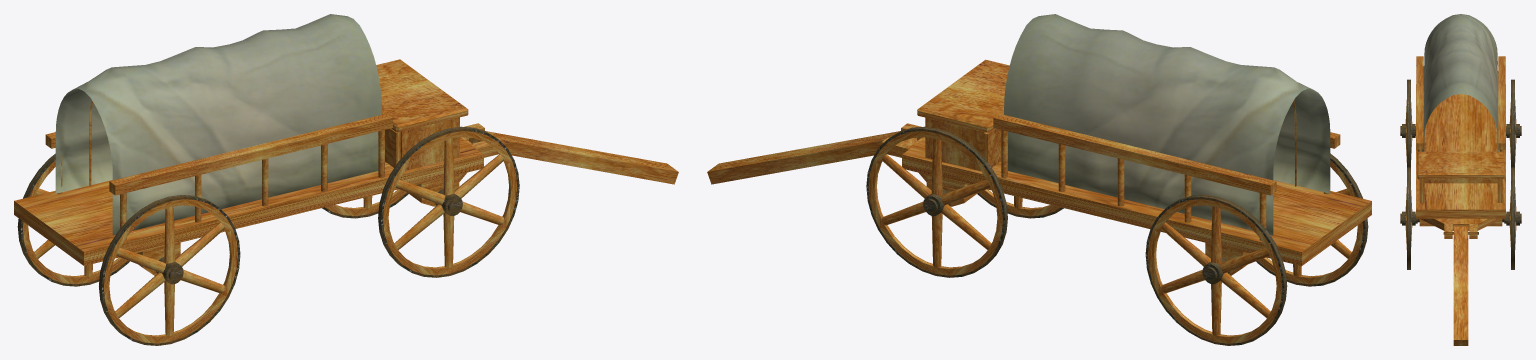
File: carriage 1.obj
3 views of the same model, side by side, from view 1: azimuth 30°, elevation 25°; view 2: azimuth 150°, elevation 25°; view 3: azimuth 270°, elevation 25° (orthographic). The views are drawn at different scales.
Size of the model in its own units: 6.24 by 2.35 by 1.64.
Materials: 6 (6 with a texture image).
